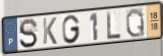1: (89, 12, 100, 42)
G: (61, 14, 81, 45)
K: (41, 17, 58, 46)
L: (105, 10, 122, 42)
Q: (125, 7, 146, 39)
S: (18, 18, 39, 50)
